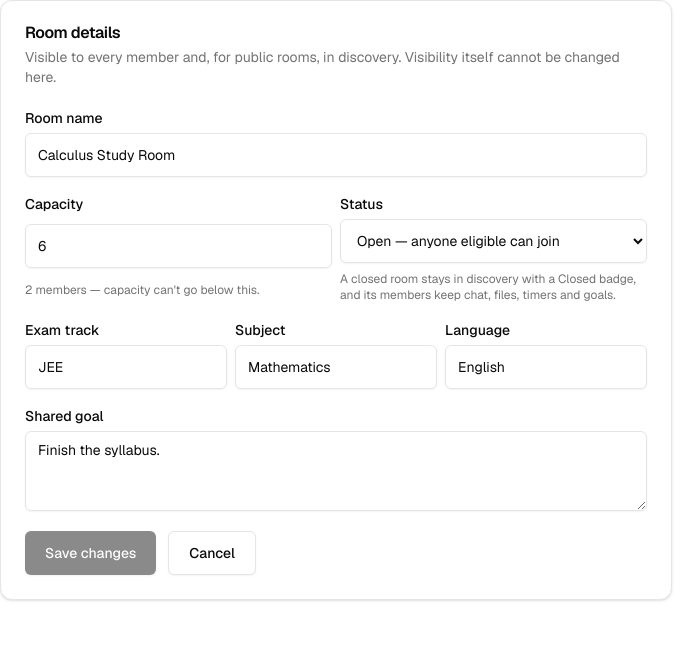
Test: RoomSettingsForm › shows a retry message when the network fails
Replace the text in the field labelled "Room name" with "New": (336, 155) [25,133,647,177]
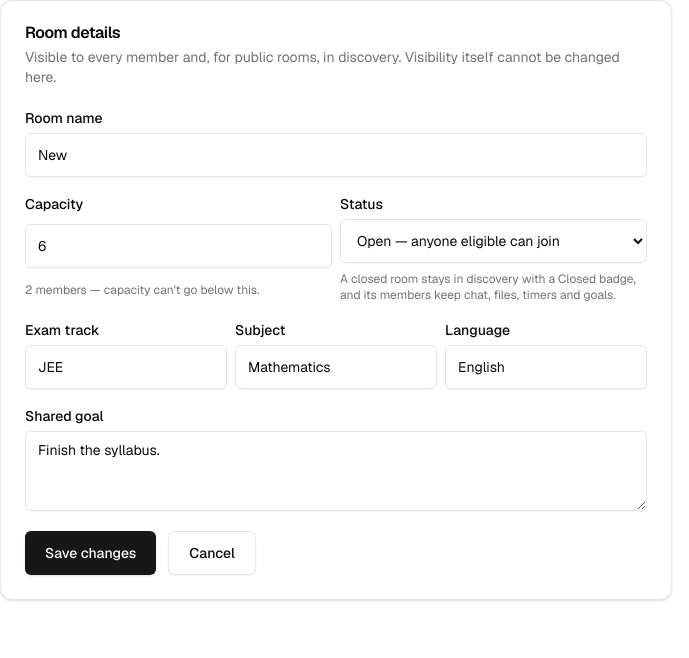
Click the button "Save changes": (91, 553) [25,531,156,575]
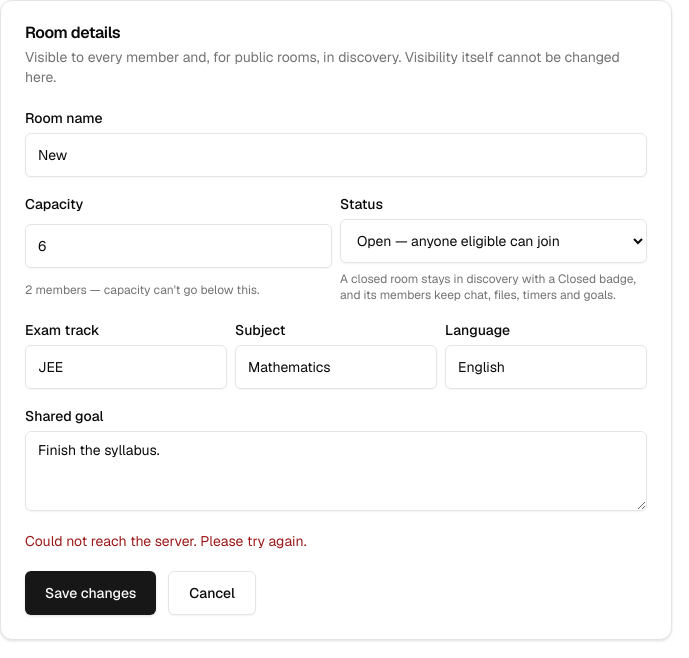
Expected: the button "Save changes" is enabled, [25,571,156,615]
Expected: the text "Could not reach the server. Please try again." is shown, [25,532,306,550]
